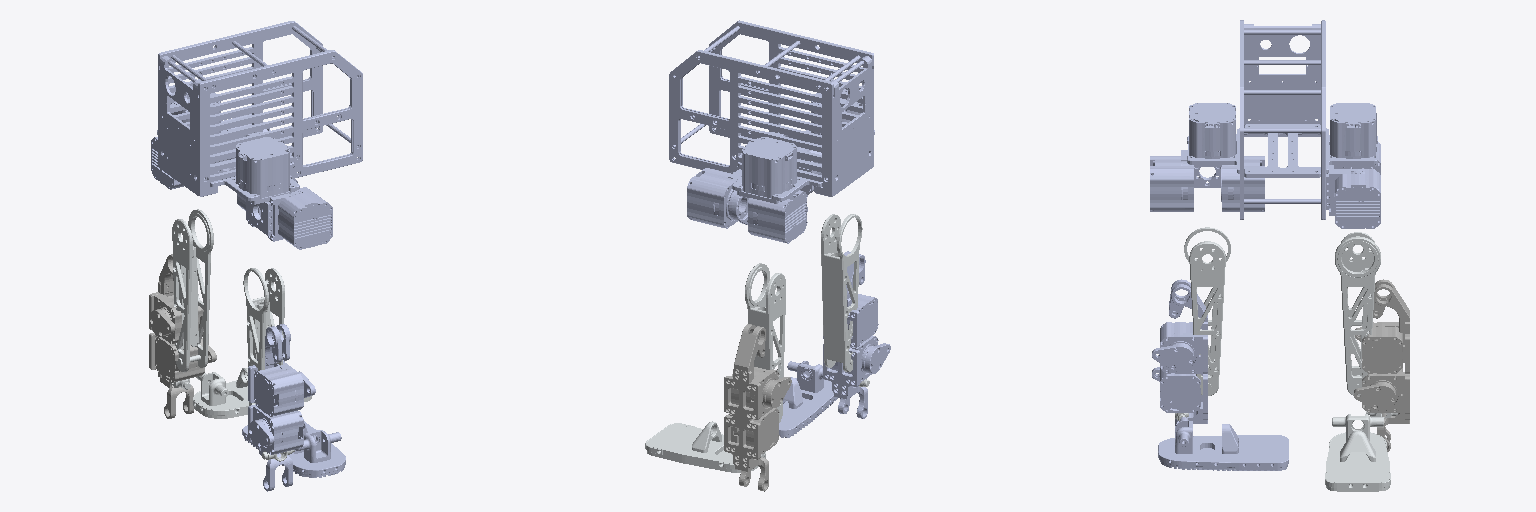
robot.urdf — pai_cl_12_240823:
<?xml version="1.0" encoding="utf-8"?>
<!--
This URDF was automatically created by SolidWorks to URDF Exporter! Originally created by [author] ([email redacted])
Commit Version: 1.6.0-4-g7f85cfe  Build Version: 1.6.7995.38578
For more information, please see http://wiki.ros.org/sw_urdf_exporter
-->
<robot name="pai_cl_12_240823">
	<link name="base_link">
		<inertial>
			<origin xyz="0.00080912 -8.753E-05 0.03920549" rpy="0 0 0" />
			<mass value="1.82" />
			<inertia ixx="0.00829787" ixy="-1.181E-05" ixz="-0.00019642" iyy="0.00916809" iyz="1.354E-05" izz="0.00411404" />
		</inertial>
		<visual>
			<origin xyz="0 0 0" rpy="0 0 0" />
			<geometry>
				<mesh filename="package://pai_cl_12_240823/meshes/base_link.STL" />
			</geometry>
			<material name="">
				<color rgba="0.79216 0.81961 0.93333 1" />
			</material>
		</visual>
		<collision>
			<origin xyz="0 0 0" rpy="0 0 0" />
			<geometry>
				<mesh filename="package://pai_cl_12_240823/meshes/base_link.STL" />
			</geometry>
		</collision>
	</link>
	<link name="r_hip_pitch_link">
		<inertial>
			<origin xyz="0.0010765 -0.030923 -0.00028479" rpy="0 0 0" />
			<mass value="0.37475" />
			<inertia ixx="0.00018843" ixy="-7E-07" ixz="-7E-07" iyy="0.00019327" iyz="1.72E-06" izz="0.00020355" />
		</inertial>
		<visual>
			<origin xyz="0 0 0" rpy="0 0 0" />
			<geometry>
				<mesh filename="package://pai_cl_12_240823/meshes/r_hip_pitch_link.STL" />
			</geometry>
			<material name="">
				<color rgba="0.79216 0.81961 0.93333 1" />
			</material>
		</visual>
		<collision>
			<origin xyz="0 0 0" rpy="0 0 0" />
			<geometry>
				<mesh filename="package://pai_cl_12_240823/meshes/r_hip_pitch_link.STL" />
			</geometry>
		</collision>
	</link>
	<joint name="r_hip_pitch_joint" type="revolute">
		<origin xyz="-0.0028186 -0.0482 -0.031" rpy="0 0 0" />
		<parent link="base_link" />
		<child link="r_hip_pitch_link" />
		<axis xyz="0 1 0" />
		<limit lower="-3.14" upper="3.14" effort="21" velocity="21" />
	</joint>
	<link name="r_hip_roll_link">
		<inertial>
			<origin xyz="-0.025798 0.00024695 -0.059965" rpy="0 0 0" />
			<mass value="0.41506" />
			<inertia ixx="0.00037621" ixy="1.65E-06" ixz="3.105E-05" iyy="0.0004423" iyz="4E-07" izz="0.00024588" />
		</inertial>
		<visual>
			<origin xyz="0 0 0" rpy="0 0 0" />
			<geometry>
				<mesh filename="package://pai_cl_12_240823/meshes/r_hip_roll_link.STL" />
			</geometry>
			<material name="">
				<color rgba="0.79216 0.81961 0.93333 1" />
			</material>
		</visual>
		<collision>
			<origin xyz="0 0 0" rpy="0 0 0" />
			<geometry>
				<mesh filename="package://pai_cl_12_240823/meshes/r_hip_roll_link.STL" />
			</geometry>
		</collision>
	</link>
	<joint name="r_hip_roll_joint" type="revolute">
		<origin xyz="0.0245 -0.032 0" rpy="0 0 0" />
		<parent link="r_hip_pitch_link" />
		<child link="r_hip_roll_link" />
		<axis xyz="1 0 0" />
		<limit lower="-3.14" upper="3.14" effort="21" velocity="21" />
	</joint>
	<link name="r_thigh_link">
		<inertial>
			<origin xyz="0 0.00287888 -0.02541557" rpy="0 0 0" />
			<mass value="0.12098061" />
			<inertia ixx="0.00013404" ixy="0" ixz="0" iyy="6.442E-05" iyz="7.23E-06" izz="9.875E-05" />
		</inertial>
		<visual>
			<origin xyz="0 0 0" rpy="0 0 0" />
			<geometry>
				<mesh filename="package://pai_cl_12_240823/meshes/r_thigh_link.STL" />
			</geometry>
			<material name="">
				<color rgba="0.89804 0.91765 0.92941 1" />
			</material>
		</visual>
		<collision>
			<origin xyz="0 0 0" rpy="0 0 0" />
			<geometry>
				<mesh filename="package://pai_cl_12_240823/meshes/r_thigh_link.STL" />
			</geometry>
		</collision>
	</link>
	<joint name="r_thigh_joint" type="revolute">
		<origin xyz="-0.0245 0 -0.0935" rpy="0 0 0" />
		<parent link="r_hip_roll_link" />
		<child link="r_thigh_link" />
		<axis xyz="0 0 1" />
		<limit lower="-3.14" upper="3.14" effort="21" velocity="21" />
	</joint>
	<link name="r_calf_link">
		<!-- <inertial>
			<origin xyz="4.634E-05 0.02433028 -0.06931881" rpy="0 0 0" />
			<mass value="0.7701909" />
			<inertia ixx="0.00330426" ixy="9E-08" ixz="-8.87E-06" iyy="0.00019962" iyz="2.29E-06" izz="0.00032106" />
		</inertial> -->
		<inertial>
			<origin xyz="4.686E-05 0.02435698 -0.06983241" rpy="0 0 0" />
			<mass value="0.7601909" />
			<inertia ixx="0.00325687" ixy="-9E-08" ixz="8.91E-06" iyy="0.00327684" iyz="6.4E-07" izz="0.00031685" />
		</inertial>
		<visual>
			<origin xyz="0 0 0" rpy="0 0 0" />
			<geometry>
				<mesh filename="package://pai_cl_12_240823/meshes/r_calf_link.STL" />
			</geometry>
			<material name="">
				<color rgba="0.79216 0.81961 0.93333 1" />
			</material>
		</visual>
		<collision>
			<origin xyz="0 0 0" rpy="0 0 0" />
			<geometry>
				<mesh filename="package://pai_cl_12_240823/meshes/r_calf_link.STL" />
			</geometry>
		</collision>
	</link>
	<joint name="r_calf_joint" type="revolute">
		<origin xyz="0 -0.0275 -0.046" rpy="0 0 0" />
		<parent link="r_thigh_link" />
		<child link="r_calf_link" />
		<axis xyz="0 1 0" />
		<limit lower="-3.14" upper="3.14" effort="21" velocity="21" />
	</joint>
	<link name="r_ankle_pitch_link">
		<inertial>
			<origin xyz="0.02577677 0.0285458 0" rpy="0 0 0" />
			<mass value="0.1322312" />
			<inertia ixx="9.848E-05" ixy="3.56E-06" ixz="0" iyy="7.022E-05" iyz="0" izz="0.00013716" />
		</inertial>
		<visual>
			<origin xyz="0 0 0" rpy="0 0 0" />
			<geometry>
				<mesh filename="package://pai_cl_12_240823/meshes/r_ankle_pitch_link.STL" />
			</geometry>
			<material name="">
				<color rgba="0.89804 0.91765 0.92941 1" />
			</material>
		</visual>
		<collision>
			<origin xyz="0 0 0" rpy="0 0 0" />
			<geometry>
				<mesh filename="package://pai_cl_12_240823/meshes/r_ankle_pitch_link.STL" />
			</geometry>
		</collision>
	</link>
	<joint name="r_ankle_pitch_joint" type="revolute">
		<origin xyz="0 0 -0.14" rpy="0 0 0" />
		<parent link="r_calf_link" />
		<child link="r_ankle_pitch_link" />
		<axis xyz="0 1 0" />
		<limit lower="-3.14" upper="3.14" effort="21" velocity="21" />
	</joint>
	<link name="r_ankle_roll_link">
		<inertial>
			<origin xyz="0.012583 0.00017854 -0.016891" rpy="0 0 0" />
			<mass value="0.58347" />
			<inertia ixx="0.00052164" ixy="-1.83E-06" ixz="-0.00017071" iyy="0.00089826" iyz="-1E-08" izz="0.00070959" />
		</inertial>
		<visual>
			<origin xyz="0 0 0" rpy="0 0 0" />
			<geometry>
				<mesh filename="package://pai_cl_12_240823/meshes/r_ankle_roll_link.STL" />
			</geometry>
			<material name="">
				<color rgba="0.79216 0.81961 0.93333 1" />
			</material>
		</visual>
		<collision>
			<origin xyz="0 0 0" rpy="0 0 0" />
			<geometry>
				<mesh filename="package://pai_cl_12_240823/meshes/r_ankle_roll_link.STL" />
			</geometry>
		</collision>
	</link>
	<joint name="r_ankle_roll_joint" type="revolute">
		<origin xyz="0.051 0.0275 0" rpy="0 0 0" />
		<parent link="r_ankle_pitch_link" />
		<child link="r_ankle_roll_link" />
		<axis xyz="1 0 0" />
		<limit lower="-3.14" upper="3.14" effort="21" velocity="21" />
	</joint>
	<link name="l_hip_pitch_link">
		<inertial>
			<origin xyz="0.0010765 0.030923 -0.00028479" rpy="0 0 0" />
			<mass value="0.37475" />
			<inertia ixx="0.00018843" ixy="-7E-07" ixz="-7E-07" iyy="0.00019327" iyz="1.72E-06" izz="0.00020355" />
		</inertial>
		<visual>
			<origin xyz="0 0 0" rpy="0 0 0" />
			<geometry>
				<mesh filename="package://pai_cl_12_240823/meshes/l_hip_pitch_link.STL" />
			</geometry>
			<material name="">
				<color rgba="0.89804 0.91765 0.92941 1" />
			</material>
		</visual>
		<collision>
			<origin xyz="0 0 0" rpy="0 0 0" />
			<geometry>
				<mesh filename="package://pai_cl_12_240823/meshes/l_hip_pitch_link.STL" />
			</geometry>
		</collision>
	</link>
	<joint name="l_hip_pitch_joint" type="revolute">
		<origin xyz="-0.0028186 0.0482 -0.031" rpy="0 0 0" />
		<parent link="base_link" />
		<child link="l_hip_pitch_link" />
		<axis xyz="0 1 0" />
		<limit lower="-3.14" upper="3.14" effort="21" velocity="21" />
	</joint>
	<link name="l_hip_roll_link">
		<inertial>
			<origin xyz="-0.025798 0.00024695 -0.059965" rpy="0 0 0" />
			<mass value="0.41506" />
			<inertia ixx="0.00037621" ixy="1.65E-06" ixz="3.105E-05" iyy="0.0004423" iyz="4E-07" izz="0.00024588" />
		</inertial>
		<visual>
			<origin xyz="0 0 0" rpy="0 0 0" />
			<geometry>
				<mesh filename="package://pai_cl_12_240823/meshes/l_hip_roll_link.STL" />
			</geometry>
			<material name="">
				<color rgba="0.79216 0.81961 0.93333 1" />
			</material>
		</visual>
		<collision>
			<origin xyz="0 0 0" rpy="0 0 0" />
			<geometry>
				<mesh filename="package://pai_cl_12_240823/meshes/l_hip_roll_link.STL" />
			</geometry>
		</collision>
	</link>
	<joint name="l_hip_roll_joint" type="revolute">
		<origin xyz="0.0245 0.032 0" rpy="0 0 0" />
		<parent link="l_hip_pitch_link" />
		<child link="l_hip_roll_link" />
		<axis xyz="1 0 0" />
		<limit lower="-3.14" upper="3.14" effort="21" velocity="21" />
	</joint>
	<link name="l_thigh_link">
		<inertial>
			<origin xyz="0 -0.00286926 -0.02541557" rpy="0 0 0" />
			<mass value="0.12098061" />
			<inertia ixx="0.00013405" ixy="0" ixz="0" iyy="6.442E-05" iyz="-7.26E-06" izz="9.875E-05" />
		</inertial>
		<visual>
			<origin xyz="0 0 0" rpy="0 0 0" />
			<geometry>
				<mesh filename="package://pai_cl_12_240823/meshes/l_thigh_link.STL" />
			</geometry>
			<material name="">
				<color rgba="0.89804 0.91765 0.92941 1" />
			</material>
		</visual>
		<collision>
			<origin xyz="0 0 0" rpy="0 0 0" />
			<geometry>
				<mesh filename="package://pai_cl_12_240823/meshes/l_thigh_link.STL" />
			</geometry>
		</collision>
	</link>
	<joint name="l_thigh_joint" type="revolute">
		<origin xyz="-0.0245 0 -0.0935" rpy="0 0 0" />
		<parent link="l_hip_roll_link" />
		<child link="l_thigh_link" />
		<axis xyz="0 0 1" />
		<limit lower="-3.14" upper="3.14" effort="21" velocity="21" />
	</joint>
	<link name="l_calf_link">
		<inertial>
			<origin xyz="4.686E-05 -0.02435698 -0.06983241" rpy="0 0 0" />
			<mass value="0.7601909" />
			<inertia ixx="0.00325687" ixy="-9E-08" ixz="8.91E-06" iyy="0.00327684" iyz="6.4E-07" izz="0.00031685" />
		</inertial>
		<visual>
			<origin xyz="0 0 0" rpy="0 0 0" />
			<geometry>
				<mesh filename="package://pai_cl_12_240823/meshes/l_calf_link.STL" />
			</geometry>
			<material name="">
				<color rgba="0.75294 0.75294 0.75294 1" />
			</material>
		</visual>
		<collision>
			<origin xyz="0 0 0" rpy="0 0 0" />
			<geometry>
				<mesh filename="package://pai_cl_12_240823/meshes/l_calf_link.STL" />
			</geometry>
		</collision>
	</link>
	<joint name="l_calf_joint" type="revolute">
		<origin xyz="0 0.0275 -0.046" rpy="0 0 0" />
		<parent link="l_thigh_link" />
		<child link="l_calf_link" />
		<axis xyz="0 1 0" />
		<limit lower="-3.14" upper="3.14" effort="21" velocity="21" />
	</joint>
	<link name="l_ankle_pitch_link">
		<inertial>
			<origin xyz="0.02577677 -0.02854579 0" rpy="0 0 0" />
			<mass value="0.1322312" />
			<inertia ixx="9.848E-05" ixy="-3.56E-06" ixz="0" iyy="7.022E-05" iyz="0" izz="0.00013716" />
		</inertial>
		<visual>
			<origin xyz="0 0 0" rpy="0 0 0" />
			<geometry>
				<mesh filename="package://pai_cl_12_240823/meshes/l_ankle_pitch_link.STL" />
			</geometry>
			<material name="">
				<color rgba="0.89804 0.91765 0.92941 1" />
			</material>
		</visual>
		<collision>
			<origin xyz="0 0 0" rpy="0 0 0" />
			<geometry>
				<mesh filename="package://pai_cl_12_240823/meshes/l_ankle_pitch_link.STL" />
			</geometry>
		</collision>
	</link>
	<joint name="l_ankle_pitch_joint" type="revolute">
		<origin xyz="0 0 -0.14" rpy="0 0 0" />
		<parent link="l_calf_link" />
		<child link="l_ankle_pitch_link" />
		<axis xyz="0 1 0" />
		<limit lower="-3.14" upper="3.14" effort="21" velocity="21" />
	</joint>
	<link name="l_ankle_roll_link">
		<inertial>
			<origin xyz="0.012583 0.00017854 -0.016891" rpy="0 0 0" />
			<mass value="0.58347" />
			<inertia ixx="0.00052164" ixy="-1.83E-06" ixz="-0.00017071" iyy="0.00089826" iyz="-1E-08" izz="0.00070959" />
		</inertial>
		<visual>
			<origin xyz="0 0 0" rpy="0 0 0" />
			<geometry>
				<mesh filename="package://pai_cl_12_240823/meshes/l_ankle_roll_link.STL" />
			</geometry>
			<material name="">
				<color rgba="0.89804 0.91765 0.92941 1" />
			</material>
		</visual>
		<collision>
			<origin xyz="0 0 0" rpy="0 0 0" />
			<geometry>
				<mesh filename="package://pai_cl_12_240823/meshes/l_ankle_roll_link.STL" />
			</geometry>
		</collision>
	</link>
	<joint name="l_ankle_roll_joint" type="revolute">
		<origin xyz="0.051 -0.0275 0" rpy="0 0 0" />
		<parent link="l_ankle_pitch_link" />
		<child link="l_ankle_roll_link" />
		<axis xyz="1 0 0" />
		<limit lower="-3.14" upper="3.14" effort="21" velocity="21" />
	</joint>
</robot>

--- What the picture shows (computed from the rendered views, not written in the file) ---
Views: 3 orthographic renders of the robot side by side, from view 1: azimuth 30°, elevation 25°; view 2: azimuth 150°, elevation 25°; view 3: azimuth 270°, elevation 25°.
Robot: pai_cl_12_240823 — 13 links, 12 joints (12 revolute); root link base_link; default pose: all joints at 0.
Links seen in each view (by area): view 1: base_link, r_calf_link, l_thigh_link, l_calf_link, r_hip_roll_link, r_thigh_link, l_ankle_roll_link, r_ankle_roll_link, l_hip_roll_link; view 2: base_link, l_calf_link, l_hip_roll_link, r_thigh_link, r_calf_link, l_ankle_roll_link, l_thigh_link, r_ankle_roll_link; view 3: base_link, l_calf_link, r_calf_link, r_ankle_roll_link, r_hip_roll_link, l_ankle_roll_link, l_thigh_link, r_thigh_link, l_hip_roll_link.
Link boxes in pixels (x1,y1,x2,y2): base_link: [157, 21, 362, 204]; r_calf_link: [248, 324, 315, 491]; l_thigh_link: [172, 209, 213, 372]; l_calf_link: [149, 254, 216, 418]; r_hip_roll_link: [237, 175, 332, 249]; r_thigh_link: [243, 268, 284, 405]; l_ankle_roll_link: [193, 368, 312, 418]; r_ankle_roll_link: [242, 421, 345, 477]; l_hip_roll_link: [151, 114, 270, 189]; base_link: [669, 20, 874, 203]; l_calf_link: [724, 324, 791, 491]; l_hip_roll_link: [687, 168, 807, 243]; r_thigh_link: [821, 214, 862, 371]; r_calf_link: [823, 251, 890, 418]; l_ankle_roll_link: [645, 421, 765, 472]; l_thigh_link: [745, 263, 785, 422]; r_ankle_roll_link: [779, 361, 837, 437]; base_link: [1187, 20, 1377, 219]; l_calf_link: [1354, 279, 1409, 451]; r_calf_link: [1152, 279, 1207, 431]; r_ankle_roll_link: [1158, 417, 1288, 470]; r_hip_roll_link: [1150, 150, 1264, 211]; l_ankle_roll_link: [1325, 414, 1390, 491]; l_thigh_link: [1335, 232, 1380, 395]; r_thigh_link: [1184, 227, 1230, 395]; l_hip_roll_link: [1326, 142, 1380, 228].
Size in the robot's own frame: 0.205 by 0.2774 by 0.4749 metres.
11 mesh visuals loaded from 13 distinct referenced files (11 binary STL); not drawn: 2 (reference not matched to a file when rendering).